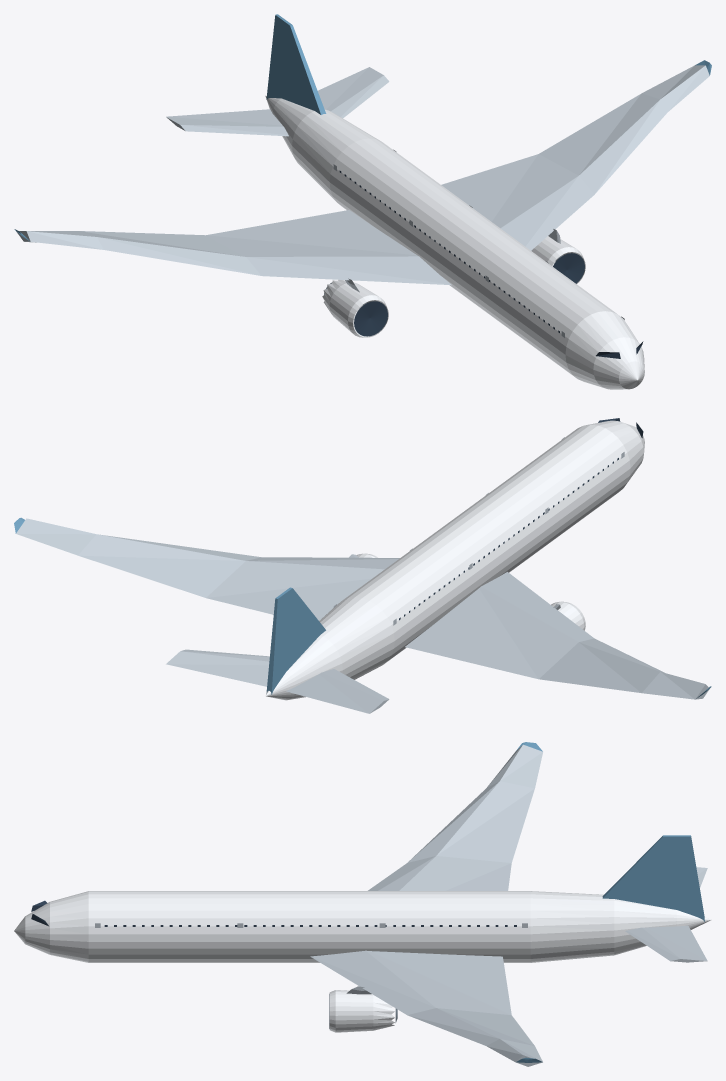
The picture shows the model from 3 angles, top to bottom: view 1: azimuth 30°, elevation 25°; view 2: azimuth 150°, elevation 25°; view 3: azimuth 270°, elevation 25°; orthographic projection. The views are drawn at different scales.
Size of the model in its own units: 61 by 13.49 by 57.
